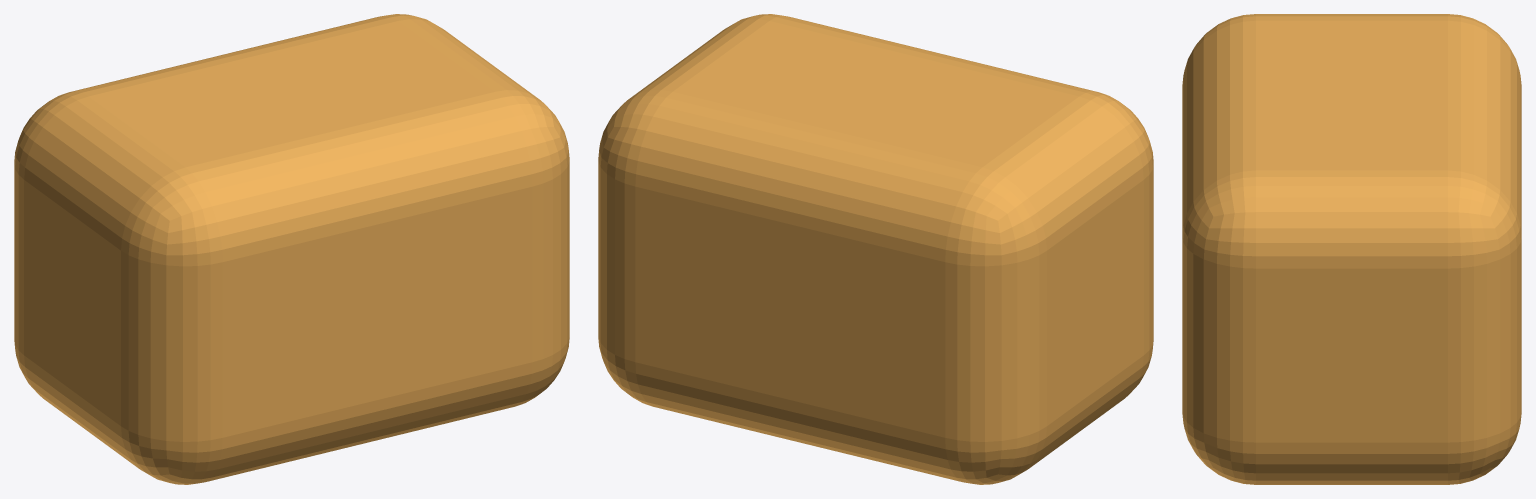
Rendered from RoundCube_02.fbx.
The picture shows the model from 3 angles, left to right: view 1: azimuth 30°, elevation 25°; view 2: azimuth 150°, elevation 25°; view 3: azimuth 270°, elevation 25°; orthographic projection.
Visible parts, largest first — view 1: RoundCube_02; view 2: RoundCube_02; view 3: RoundCube_02.
Boxes of the visible parts, x1,y1,x2,y2 form: RoundCube_02: (14,14,569,484); RoundCube_02: (598,14,1153,484); RoundCube_02: (1182,14,1521,484).
Bounding box in the file's own units: 374 × 253 × 253.
